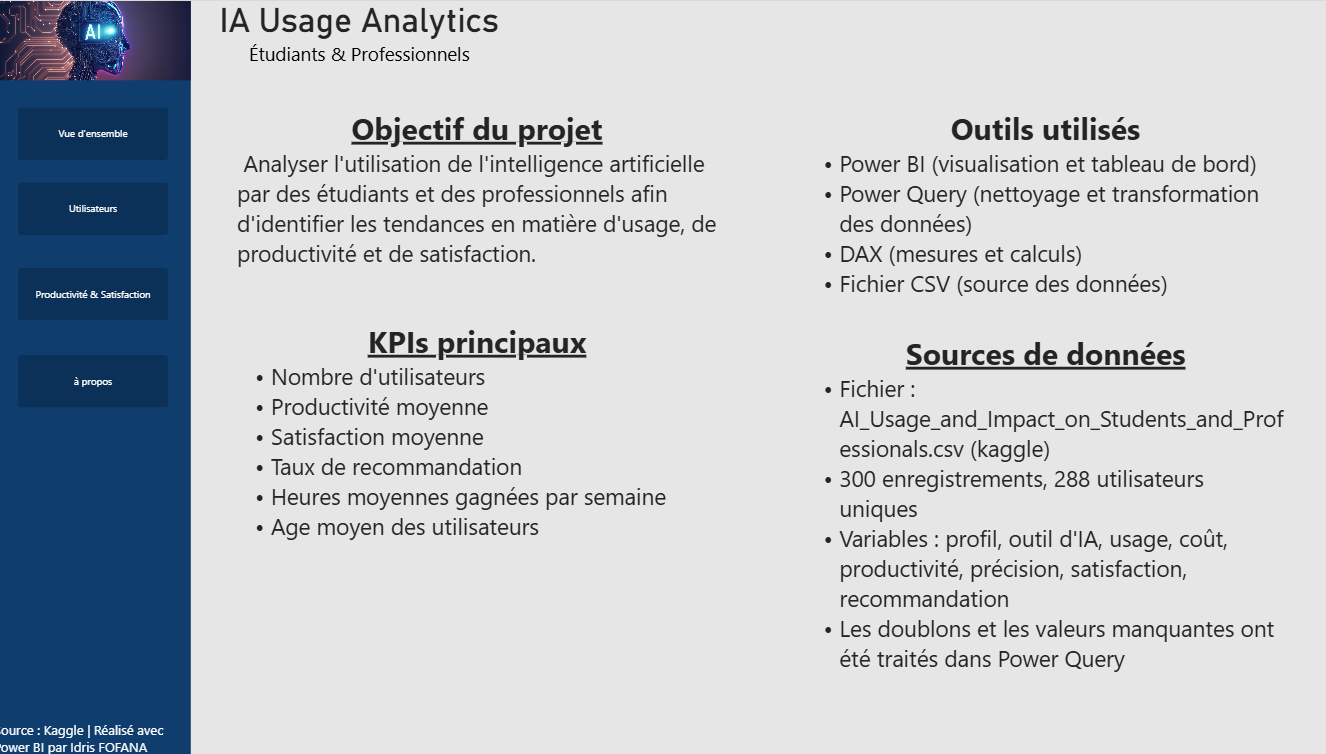

The dashboard page shown, as its layout file describes it:
{"tool":"powerbi","page":{"name":"à propos","canvas":[1920,1080],"ordinal":3},"visuals":[{"type":"shape","box":[0,0,279.1,1080],"z":0},{"type":"textbox","title":"IA Usage Analytics","box":[279.1,0,479.3,151.2],"z":1000},{"type":"image","box":[0,0,279.1,112.9],"z":6000},{"type":"actionButton","title":"Utilisateurs","box":[34.1,257.8,213,74.6],"z":7000},{"type":"actionButton","title":"Utilisateurs","box":[34.1,151.2,213,74.6],"z":8000},{"type":"actionButton","title":"Utilisateurs","box":[34.1,379.2,213,74.6],"z":9000},{"type":"actionButton","title":"Utilisateurs","box":[34.1,502.7,213,74.6],"z":10000},{"type":"textbox","box":[345.1,151.2,681.7,302.5],"z":11000},{"type":"textbox","box":[1152.4,151.2,681.7,319.5],"z":12000},{"type":"textbox","box":[345.1,453.7,681.7,524],"z":13000},{"type":"textbox","box":[1152,471,682,507],"z":14000},{"type":"textbox","box":[0,1022.5,279.1,57.5],"z":14001}]}

Visuals, with their boxes on the page's 1920x1080 design canvas (x1, y1, x2, y2). These are canvas units, not pixel positions in the 1326x754 screenshot, which may show the page scaled, cropped or inside an application window:
shape: detection(0, 0, 279, 1080)
"IA Usage Analytics" textbox: detection(279, 0, 758, 151)
image: detection(0, 0, 279, 113)
"Utilisateurs" actionButton: detection(34, 258, 247, 332)
"Utilisateurs" actionButton: detection(34, 151, 247, 226)
"Utilisateurs" actionButton: detection(34, 379, 247, 454)
"Utilisateurs" actionButton: detection(34, 503, 247, 577)
textbox: detection(345, 151, 1027, 454)
textbox: detection(1152, 151, 1834, 471)
textbox: detection(345, 454, 1027, 978)
textbox: detection(1152, 471, 1834, 978)
textbox: detection(0, 1022, 279, 1080)
